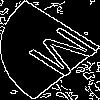M: (25, 25, 100, 86)
